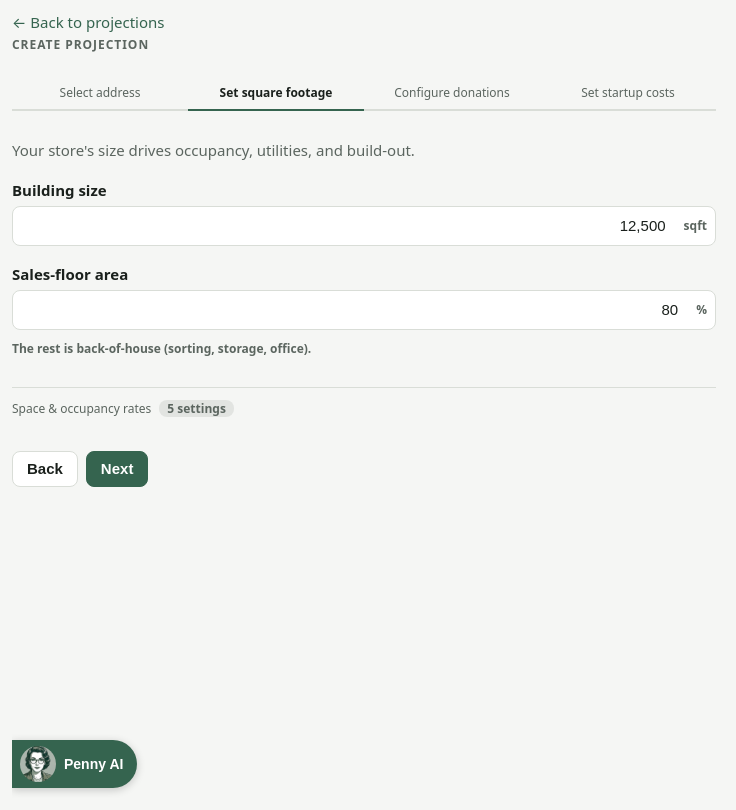
Test: CreateProjectionPage — route ↔ step sync (#261) › pushes a new /wizard/<slug> route on Next and pops it on Back (draft preserved)
Replace the text in the field labelled "Building size sqft" with "9000" at (344, 226), box [13,217,676,234]
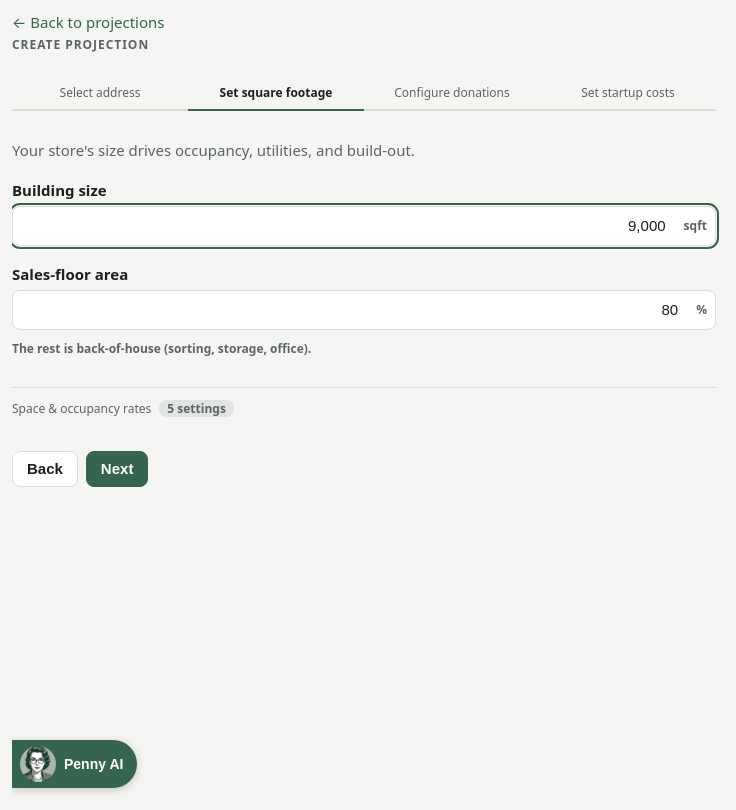
Click the button "Next" at (117, 469), box [86,451,148,487]
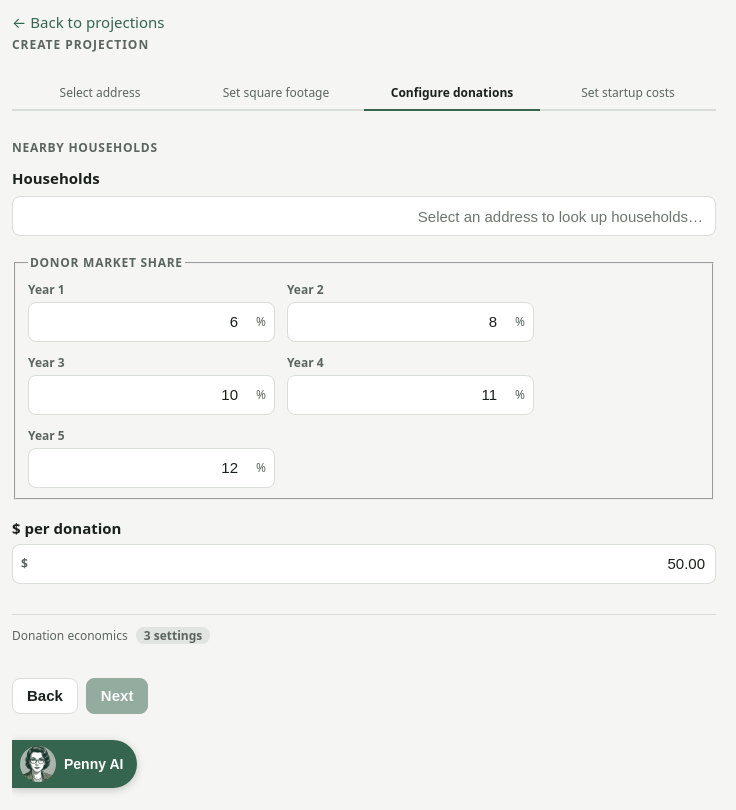
Click the button "Back" at (45, 696), box [12,678,78,714]
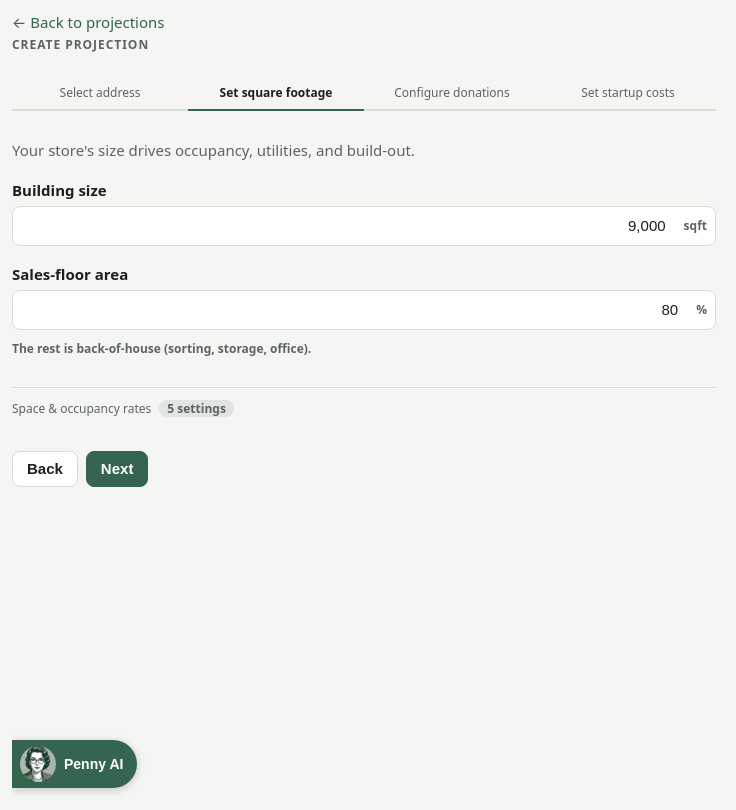
Result: the field labelled "Building size sqft" holds "9,000" at [13,217,676,234]
